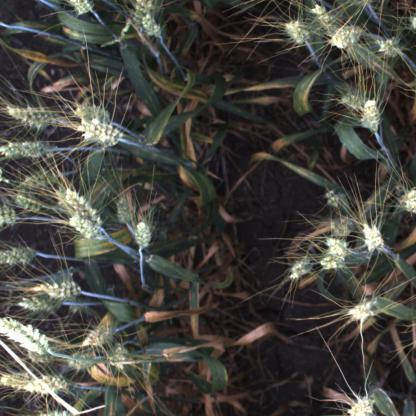whd: (53, 176, 106, 226), (0, 311, 53, 359), (74, 116, 130, 154), (0, 132, 57, 166), (3, 98, 60, 130), (70, 95, 114, 129), (31, 277, 82, 304), (121, 0, 161, 30), (69, 211, 109, 240), (21, 374, 71, 395), (79, 323, 118, 349), (0, 243, 38, 269), (20, 164, 61, 188), (10, 182, 40, 214), (328, 24, 362, 50), (137, 12, 166, 42), (283, 18, 313, 46), (57, 0, 98, 20), (15, 294, 58, 313), (346, 297, 378, 322), (343, 392, 376, 416), (362, 219, 384, 255), (358, 98, 381, 132), (0, 200, 23, 232), (64, 350, 98, 371), (114, 192, 135, 226), (106, 342, 130, 371), (323, 237, 353, 260), (131, 219, 153, 250), (0, 369, 34, 389), (375, 35, 402, 60), (288, 255, 314, 280), (398, 185, 416, 217), (327, 215, 352, 238), (321, 186, 344, 209), (310, 2, 332, 26), (318, 253, 346, 271), (340, 90, 364, 110), (403, 12, 416, 33)
